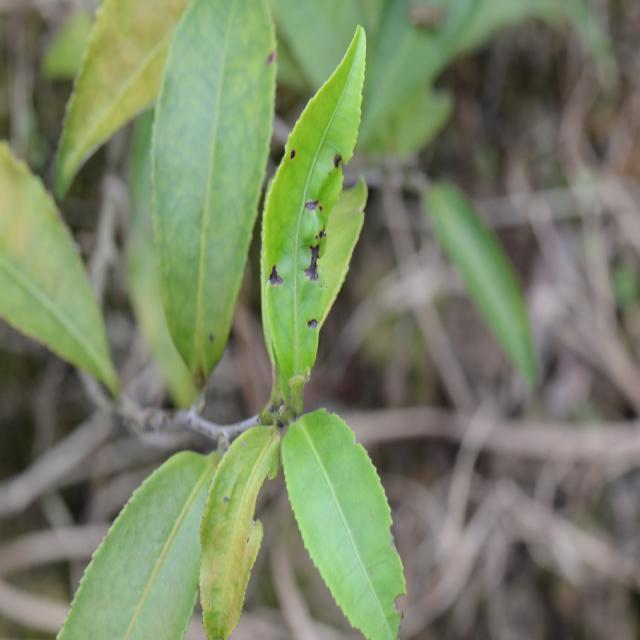Tea red scab: (294, 187, 335, 284), (261, 257, 290, 298), (302, 308, 324, 342), (329, 142, 345, 178), (285, 135, 297, 167)
